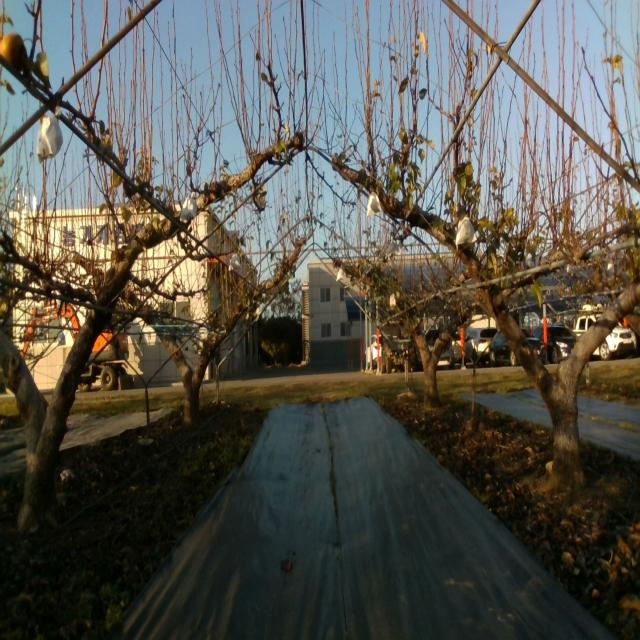pearbags: (37, 105, 63, 165), (456, 216, 477, 244), (180, 192, 198, 223), (366, 191, 382, 217), (384, 239, 402, 258)
